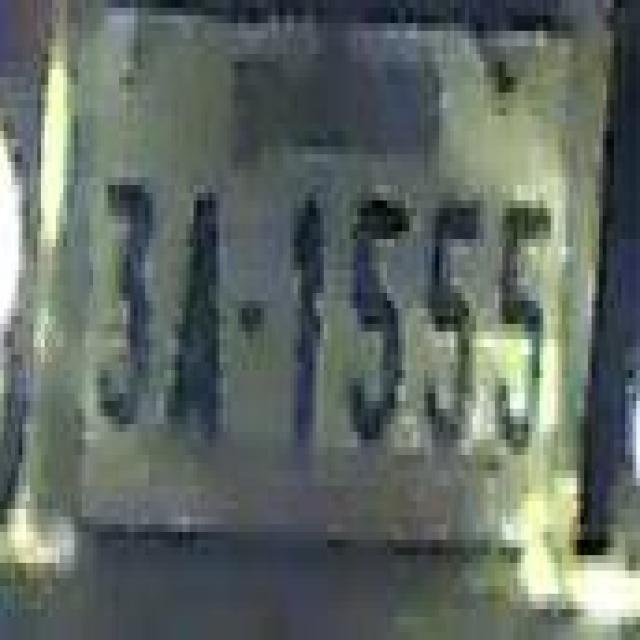Preah_Sihanouk: (231, 23, 442, 176)
